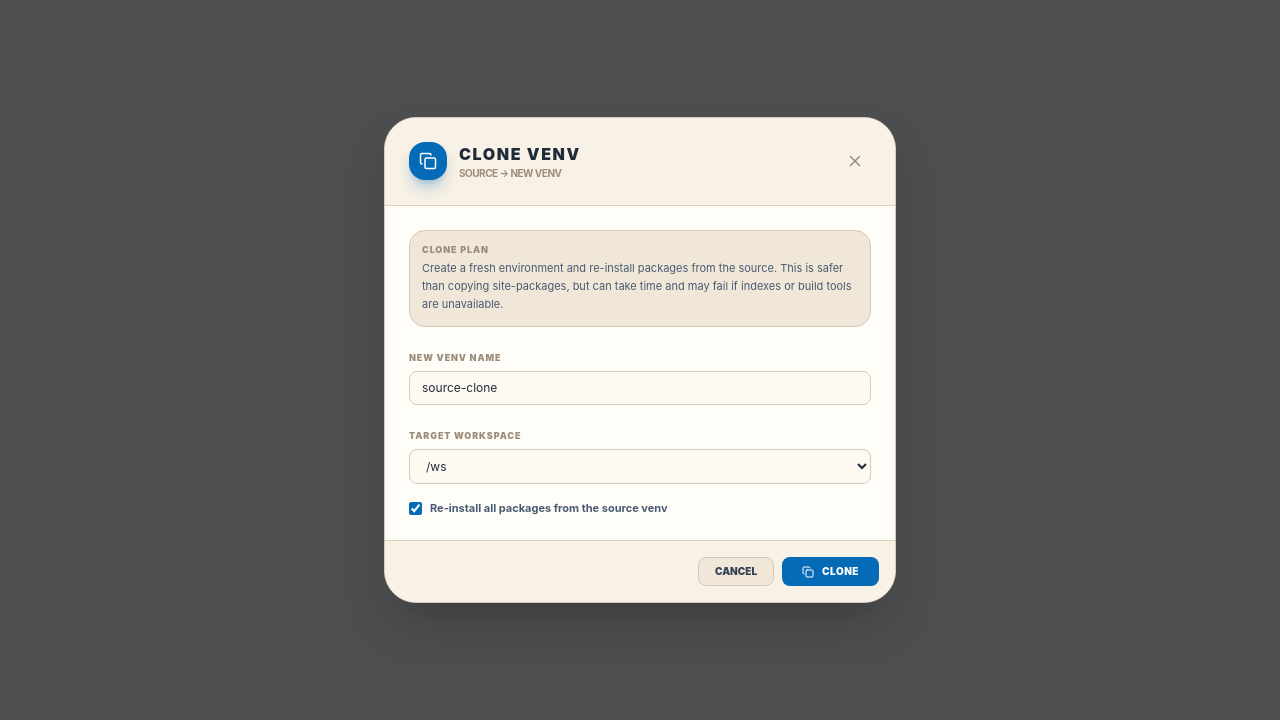
Test case: critical modal flows › explains clone strategy and updates it when packages are excluded
The width and height of the screenshot is (1280, 720).
Expected: the text "Clone plan" is shown, [422,244,489,255]
Expected: the text "re-install packages from the source" is shown, [422,261,852,311]
Click the checkbox labelled "Re-install all packages from the source venv": (416, 508) [409,502,422,515]
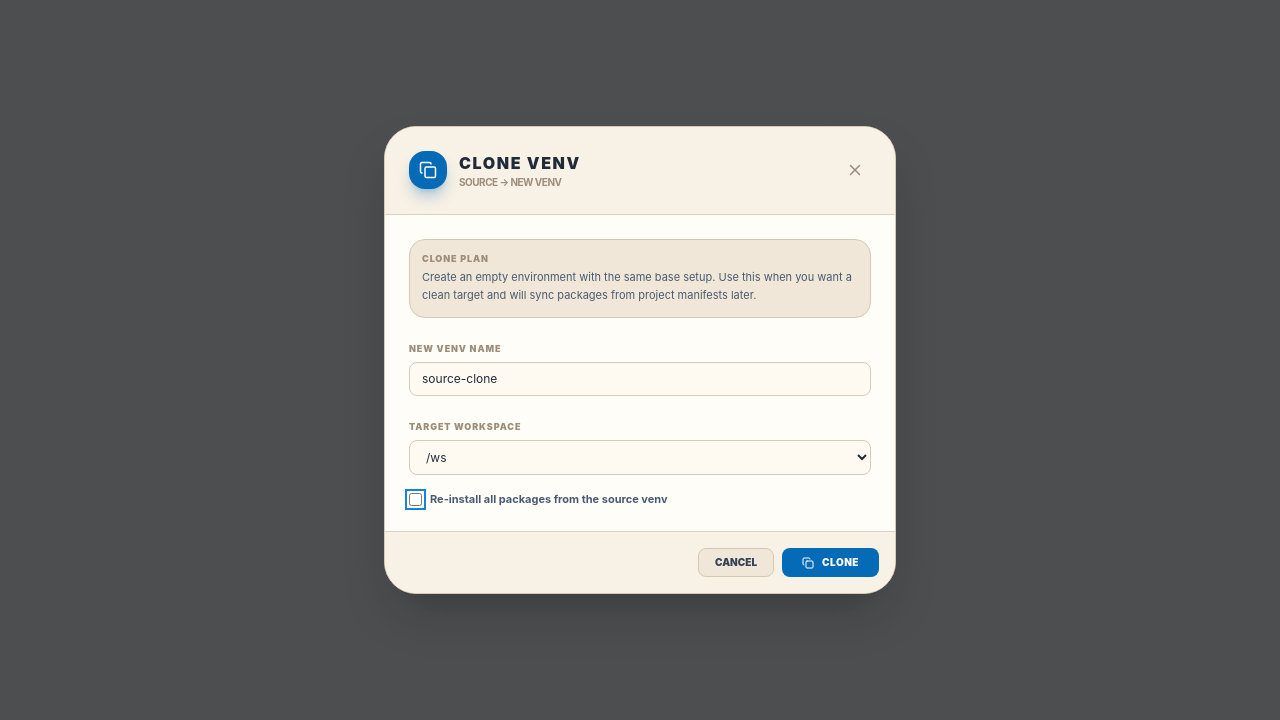
Expected: the text "Create an empty environment" is shown, [422,270,852,302]
